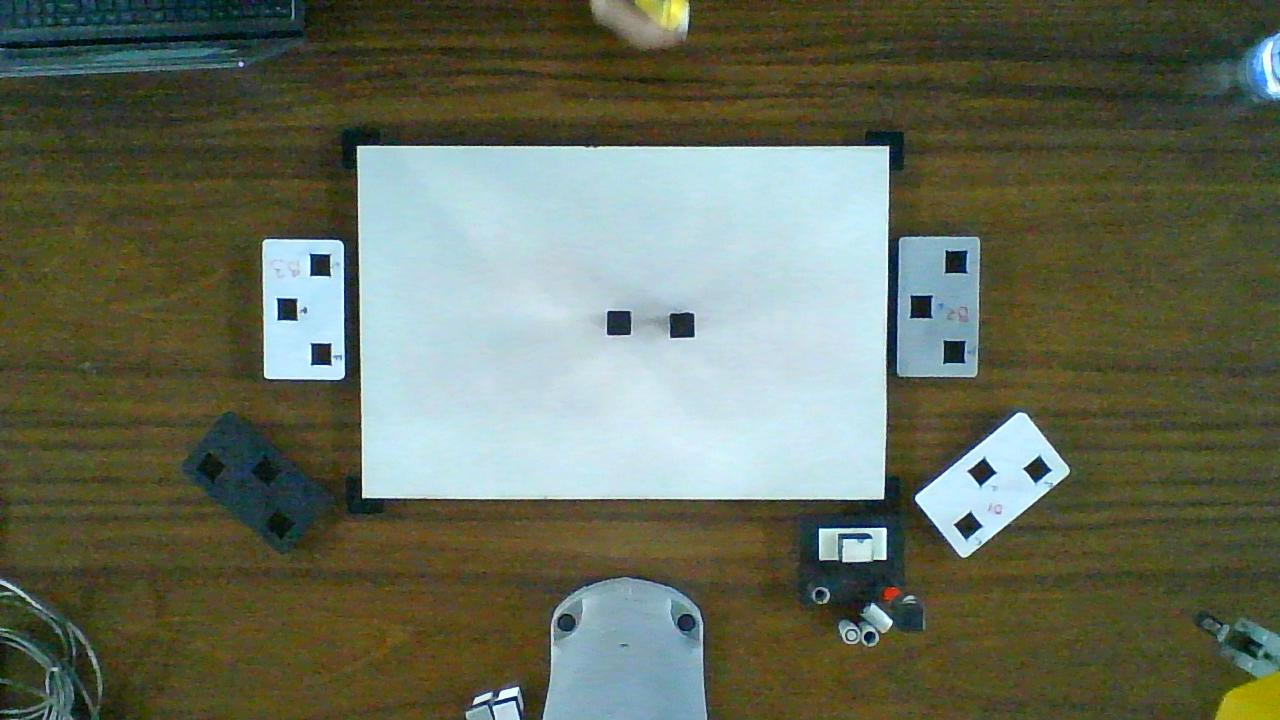peca_preta: (608, 311, 630, 334), (672, 315, 693, 337)
